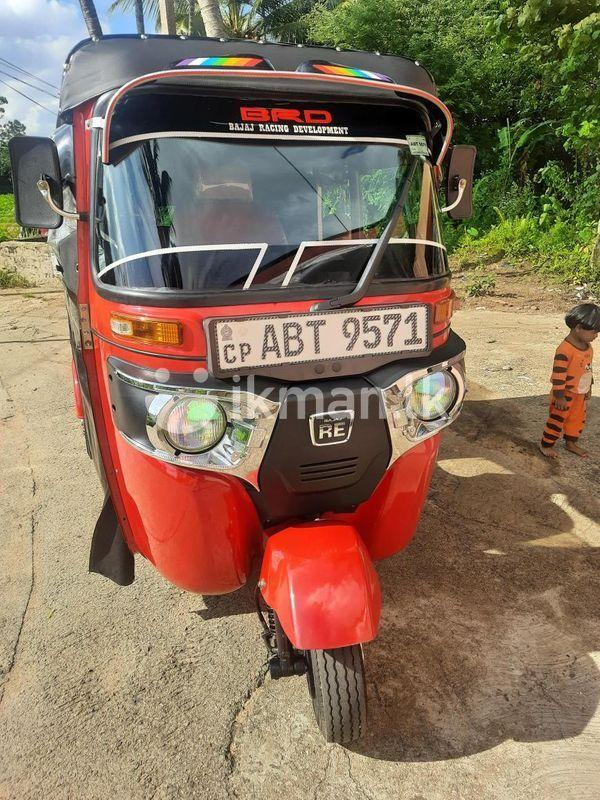threewheel: (5, 34, 475, 745)
